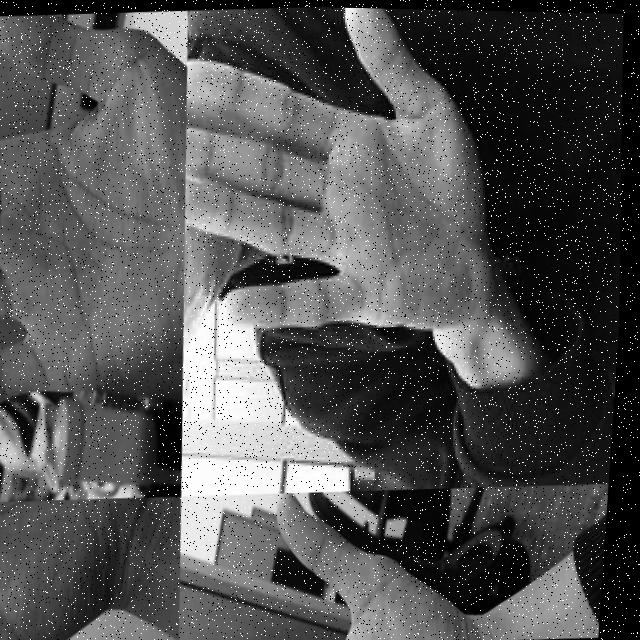hand: (169, 3, 519, 346), (0, 6, 208, 412), (178, 478, 525, 640), (0, 493, 176, 640)
